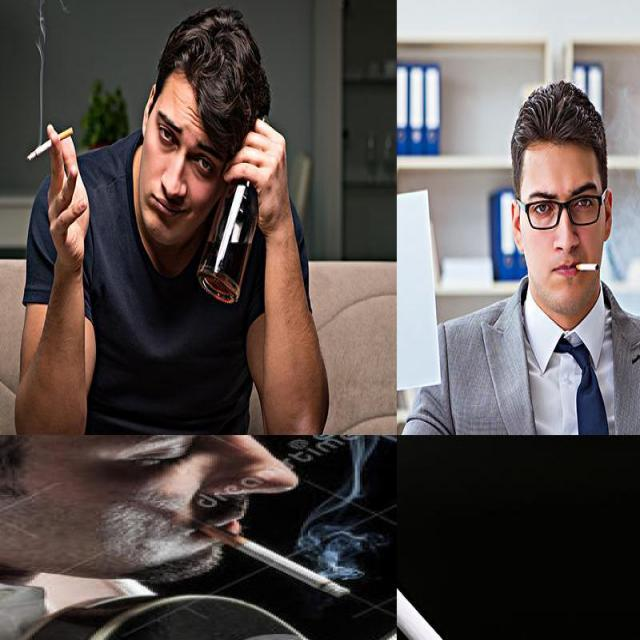smoke: (396, 515, 506, 639), (196, 523, 354, 599), (25, 124, 76, 164), (570, 248, 600, 282)
